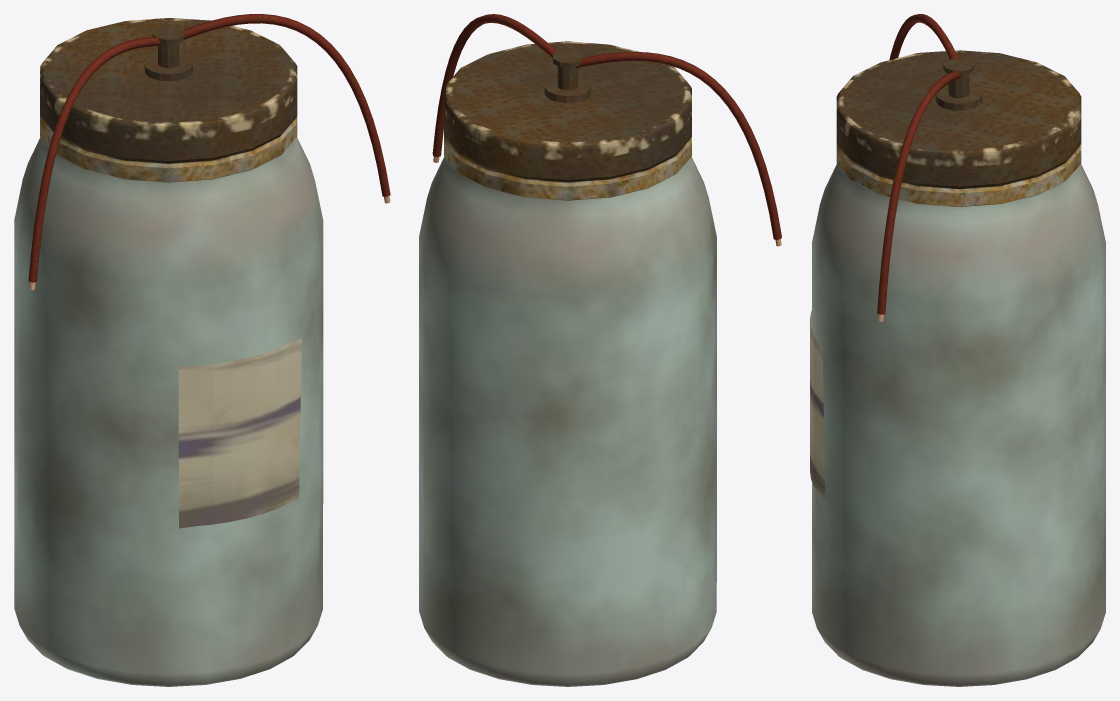
Rendered from joy_jar.glb.
The picture shows the model from 3 angles, left to right: view 1: azimuth 30°, elevation 25°; view 2: azimuth 150°, elevation 25°; view 3: azimuth 270°, elevation 25°; orthographic projection. The views are drawn at different scales.
Visible parts, largest first — view 1: joy_jar; view 2: joy_jar; view 3: joy_jar.
Part boxes in pixels (box(x1,y1,x2,y2)): joy_jar: box(14, 14, 390, 686); joy_jar: box(419, 14, 781, 686); joy_jar: box(810, 14, 1105, 686).
Bounding box in the file's own units: 0.3069 × 0.4941 × 0.2285.
Materials: 5 (4 with a texture image).
